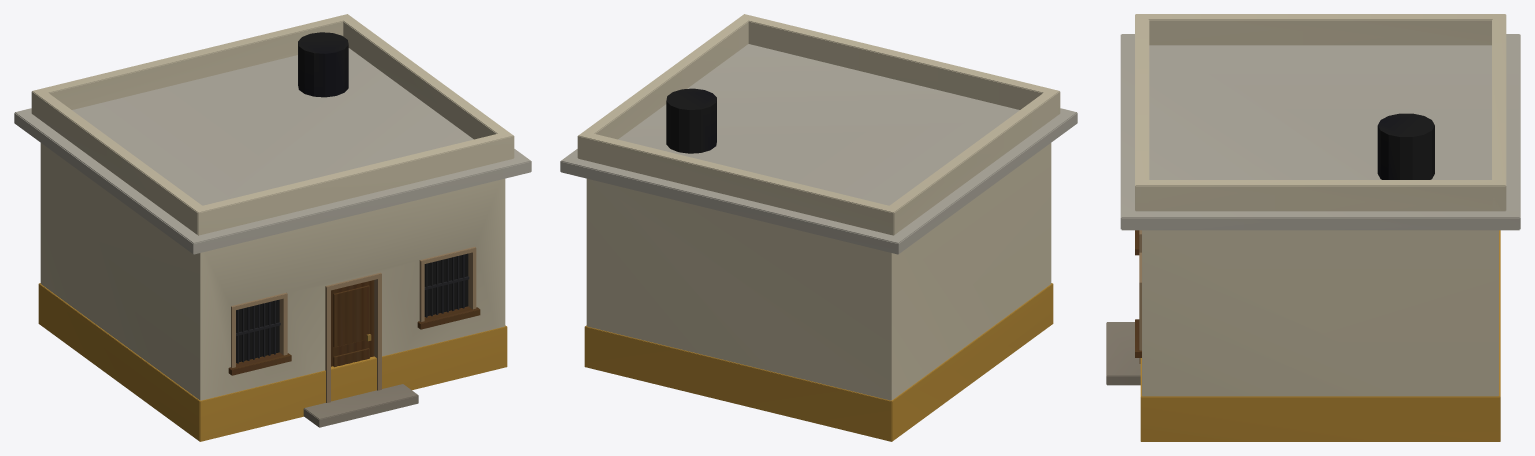
The model's file is bg_house_a.glb.
The picture shows the model from 3 angles, left to right: view 1: azimuth 30°, elevation 25°; view 2: azimuth 150°, elevation 25°; view 3: azimuth 270°, elevation 25°; orthographic projection. The views are drawn at different scales.
Visible parts, largest first — view 1: hb_main; view 2: hb_main; view 3: hb_main.
Boxes of the visible parts, left/top/right/bottom form: hb_main: left=14, top=14, right=531, bottom=441; hb_main: left=560, top=14, right=1077, bottom=441; hb_main: left=1106, top=14, right=1520, bottom=441.
Bounding box in the file's own units: 6.1 × 4.35 × 5.8.
